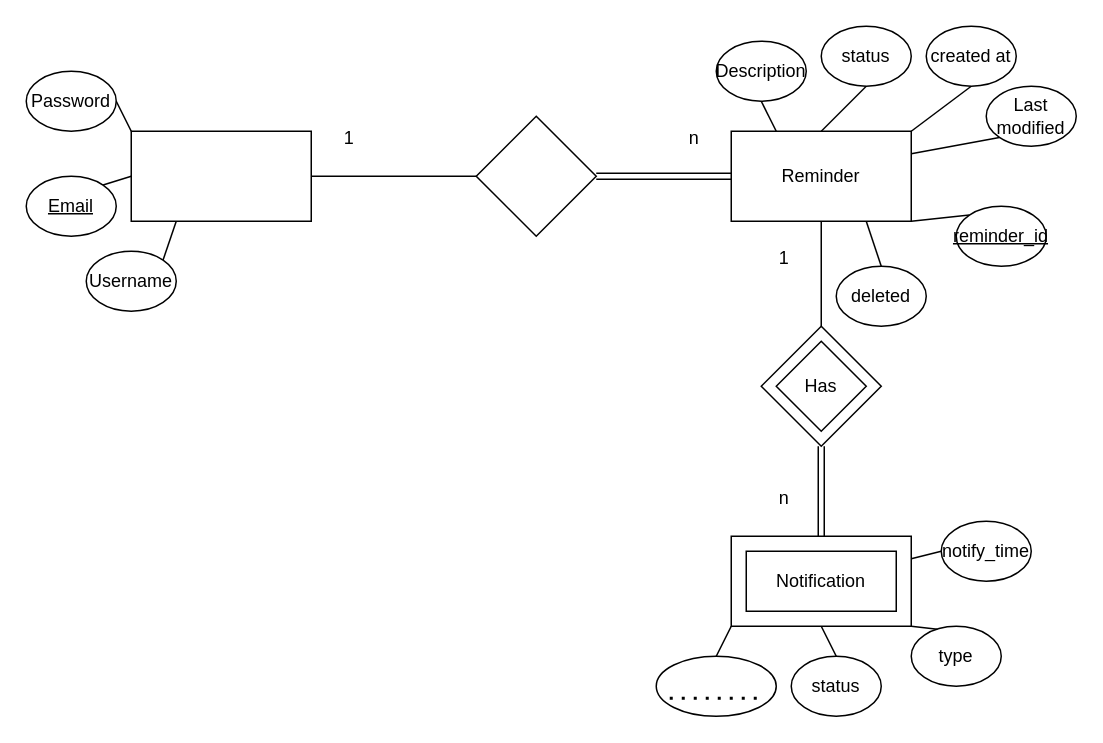
Image size: 1103x743. Some labels were removed from this diagram. Each missing label, with the box of its shape:
Create: (475, 115, 596, 236)
notification_id: (655, 655, 776, 716)
User: (130, 130, 311, 221)
